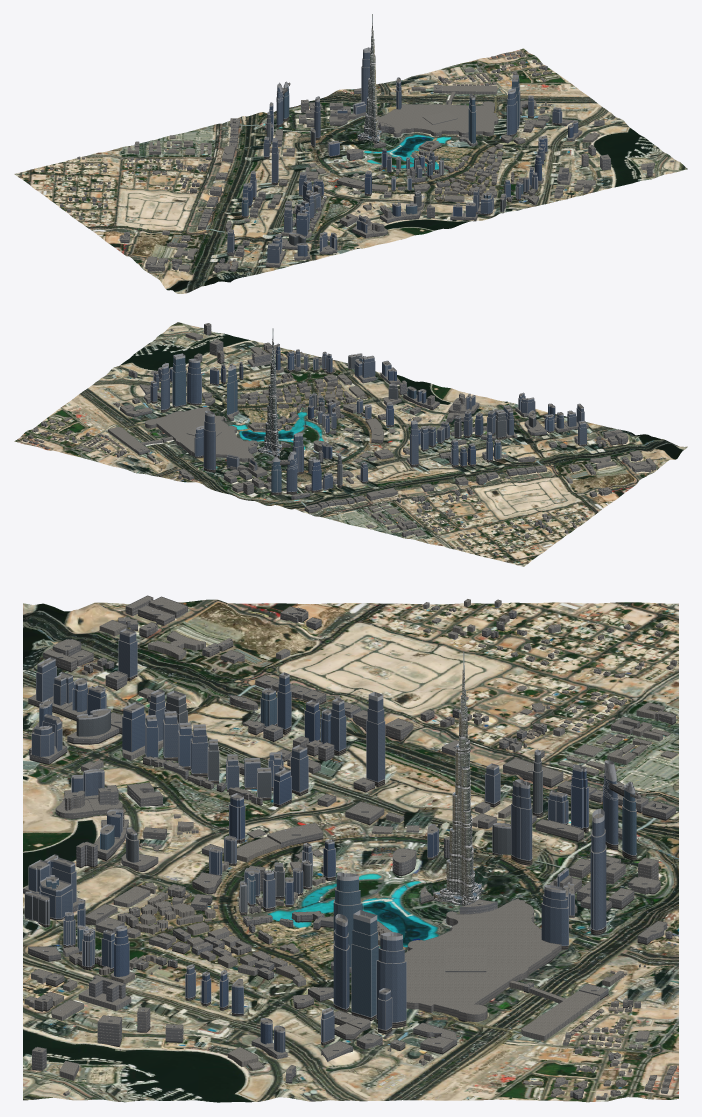
The model's file is dubai_city_enhanced.glb.
3 renders of one model, top to bottom at view 1: azimuth 30°, elevation 25°; view 2: azimuth 150°, elevation 25°; view 3: azimuth 270°, elevation 25°, orthographic. The views are drawn at different scales.
Visible parts, largest first — view 1: Terrain, City_roof, City_glass, City_resi, City_plaster, City_metal, City_store, Burj_0, world; view 2: Terrain, City_glass, City_roof, City_resi, City_metal, City_plaster, City_store, Burj_0, world; view 3: Terrain, City_glass, City_roof, City_resi, City_plaster, City_metal, City_store, Burj_0, world.
Boxes of the visible parts, x1,y1,x2,y2 form: Terrain: (14,48,687,293); City_roof: (41,50,673,269); City_glass: (227,52,578,263); City_resi: (69,65,652,272); City_plaster: (41,51,673,271); City_metal: (50,47,648,266); City_store: (69,69,652,271); Burj_0: (357,14,381,143); world: (357,24,381,143); Terrain: (14,322,687,566); City_glass: (150,347,586,492); City_roof: (23,323,655,556); City_resi: (41,323,655,536); City_metal: (42,342,640,534); City_plaster: (23,329,642,557); City_store: (41,334,655,537); Burj_0: (257,328,281,458); world: (257,340,281,457); Terrain: (23,599,678,1102); City_glass: (25,633,636,1052); City_roof: (24,596,676,1097); City_resi: (23,595,675,1098); City_plaster: (25,599,677,1100); City_metal: (24,599,673,1096); City_store: (25,615,675,1099); Burj_0: (433,651,481,905); world: (433,671,481,905).
Bounding box in the file's own units: 3554 × 860 × 1980.
9 materials, 7 textured.
